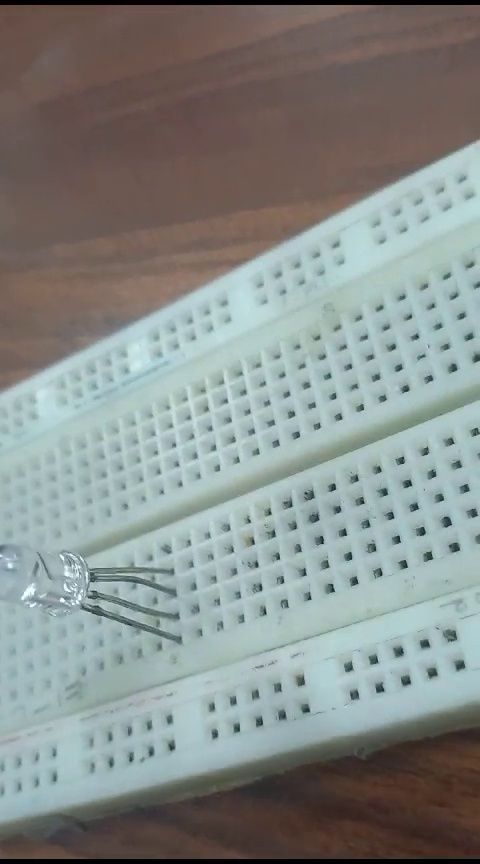LED: (1, 537, 184, 635)
